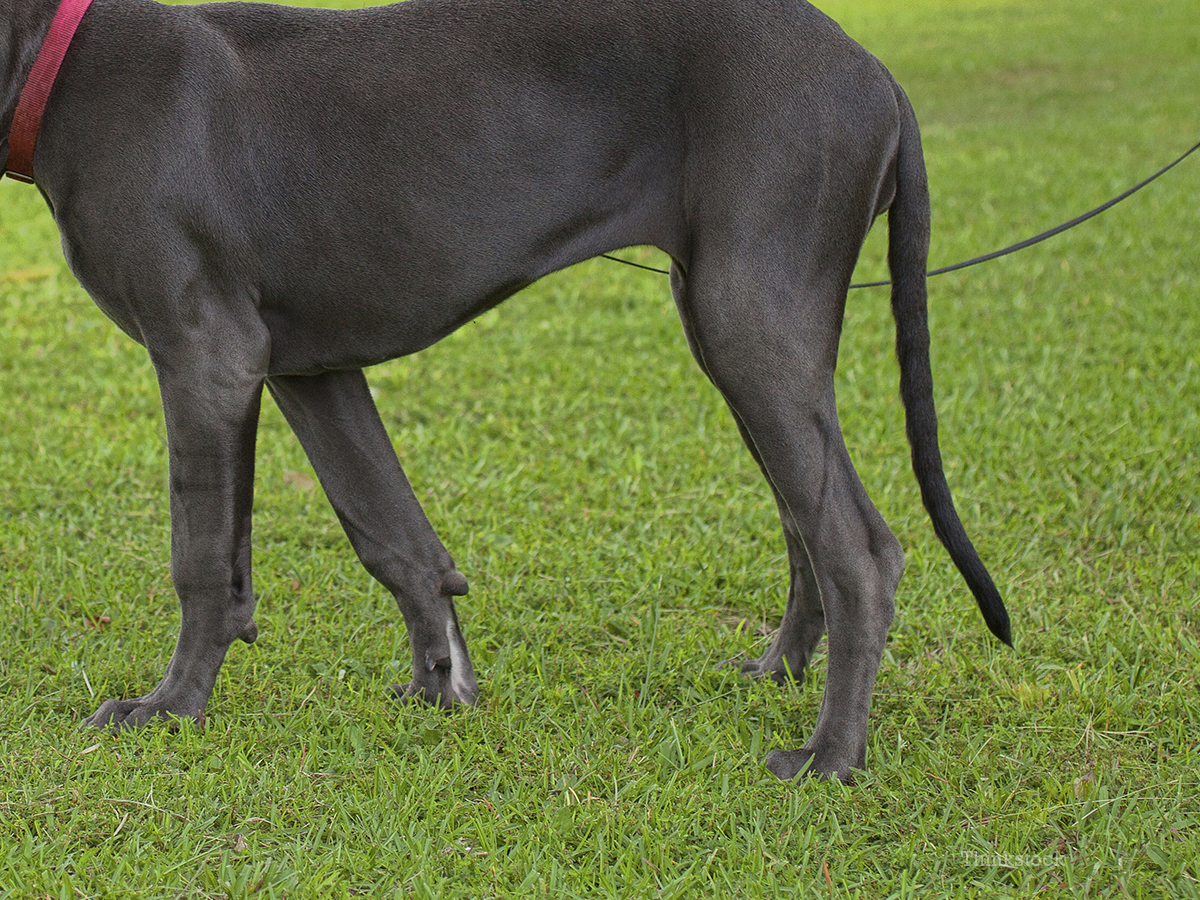tail: (891, 73, 1032, 652)
